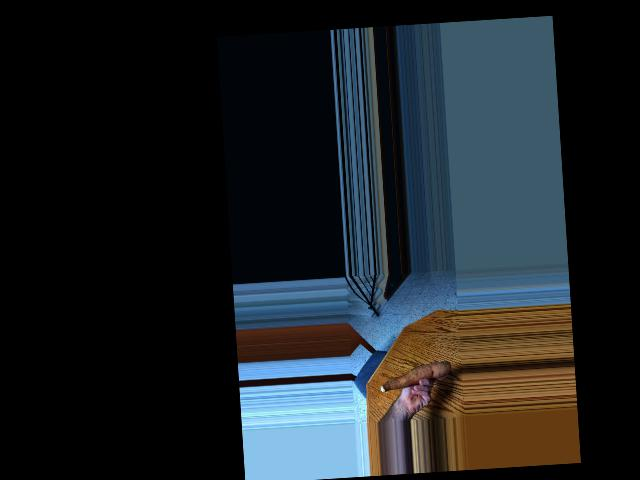sweet_potato: (378, 358, 451, 395)
